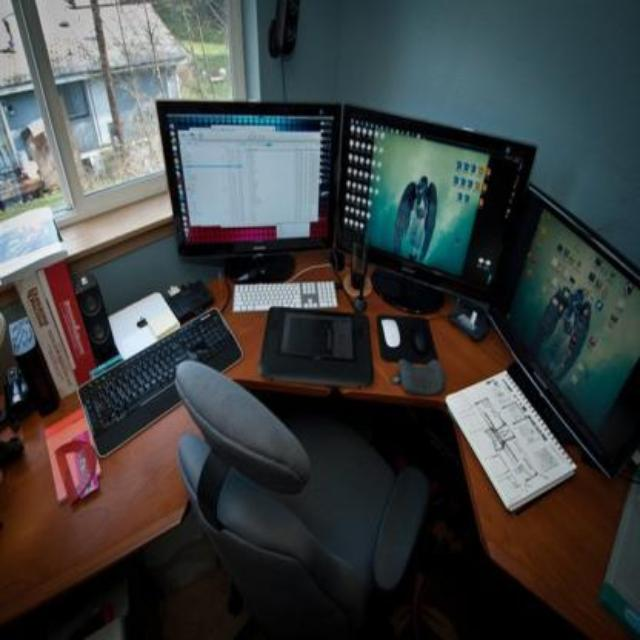Computer-Keyboard: (71, 309, 237, 455)
Flat-Panel-Monitor: (145, 92, 549, 278)
